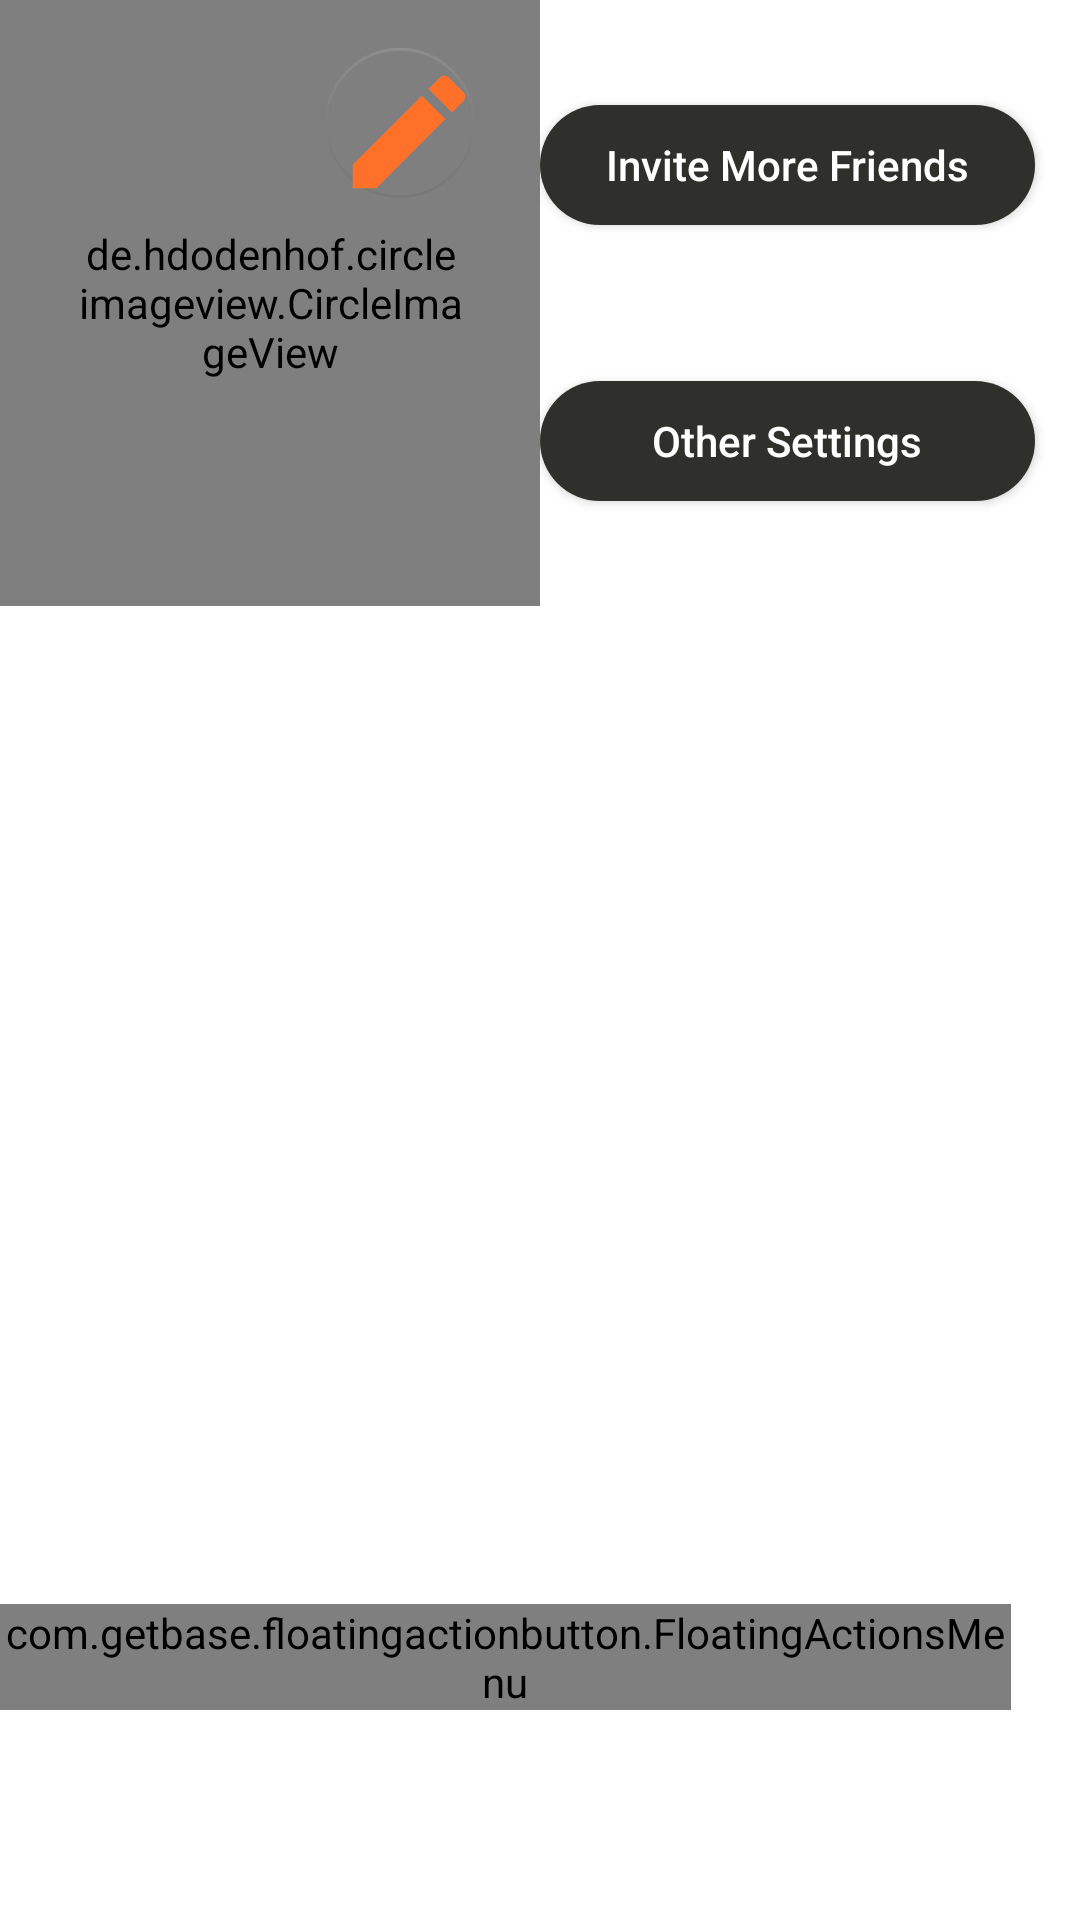

Icons on this 1080 × 1920 Android screen, each with its box as Rect(x1, y1, x2, y2):
edit: Rect(352, 75, 466, 189)
